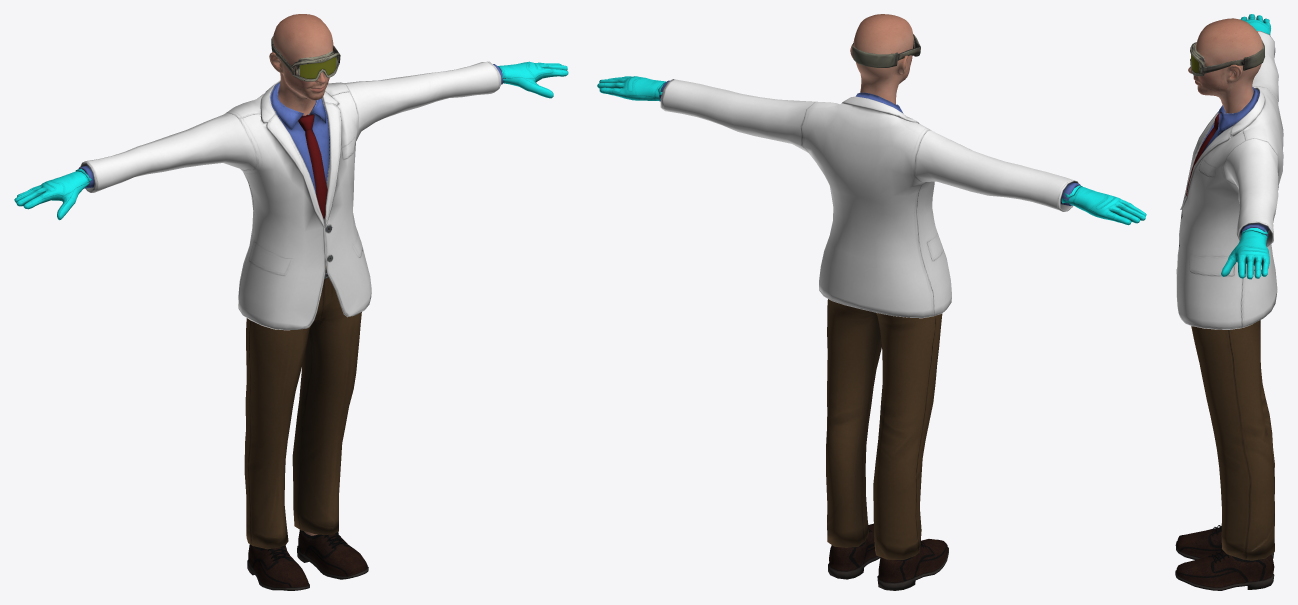
File: scientist.obj
The picture shows the model from 3 angles, left to right: view 1: azimuth 30°, elevation 25°; view 2: azimuth 150°, elevation 25°; view 3: azimuth 270°, elevation 25°; orthographic projection.
Parts seen in each view (by area): view 1: Tops, Bottoms, Shoes, Body, Gloves, Eyewear; view 2: Tops, Bottoms, Shoes, Body, Gloves, Eyewear; view 3: Tops, Bottoms, Body, Shoes, Gloves, Eyewear.
Boxes of the visible parts, <box> form: Tops: <box>78,61,503,330</box>; Bottoms: <box>244,265,361,549</box>; Shoes: <box>247,530,368,590</box>; Body: <box>88,14,504,535</box>; Gloves: <box>14,61,568,220</box>; Eyewear: <box>271,36,340,81</box>; Tops: <box>659,79,1080,318</box>; Bottoms: <box>826,299,942,559</box>; Shoes: <box>828,523,948,590</box>; Body: <box>850,14,913,104</box>; Gloves: <box>597,76,1146,225</box>; Eyewear: <box>852,34,920,67</box>; Tops: <box>1176,31,1283,329</box>; Bottoms: <box>1191,320,1274,560</box>; Body: <box>1188,18,1263,113</box>; Shoes: <box>1175,525,1274,590</box>; Gloves: <box>1221,14,1270,279</box>; Eyewear: <box>1190,40,1264,76</box>.
Bounding box in the file's own units: 187 × 180 × 32.29.
6 materials, 6 textured.
